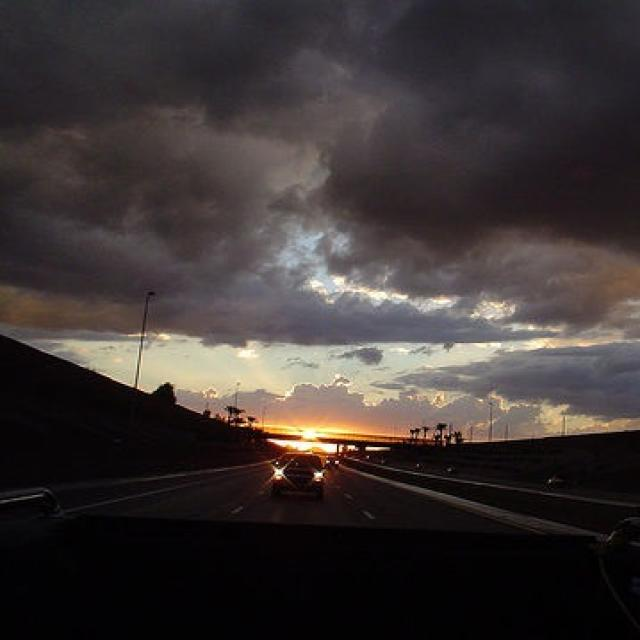Car: (274, 434, 335, 535)
